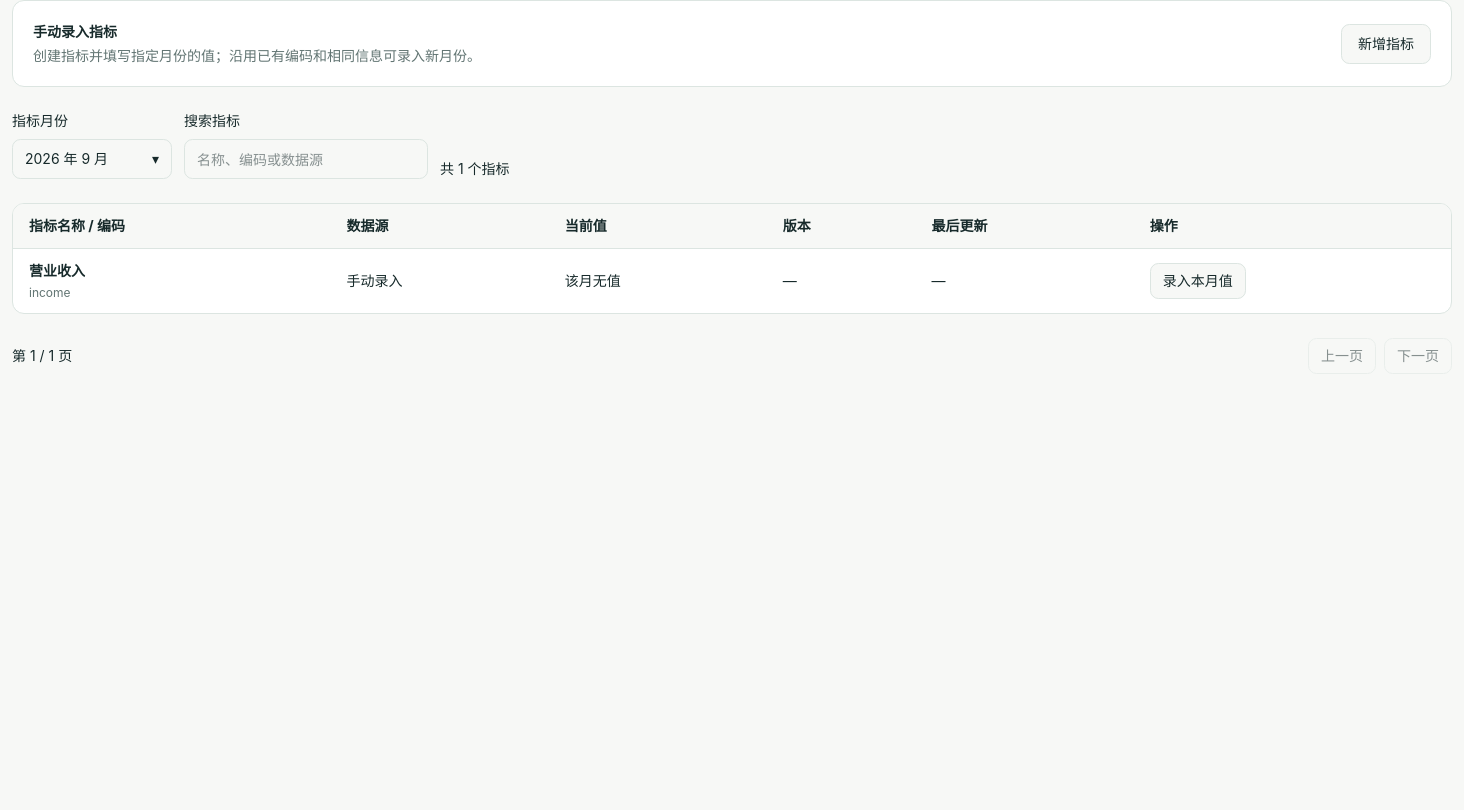
Test: metric manager month loading › records an empty month's value for an existing manual metric
This screenshot has width=1464, height=810.
Click the button "录入本月值" at [1198, 281], box [1150, 263, 1246, 299]
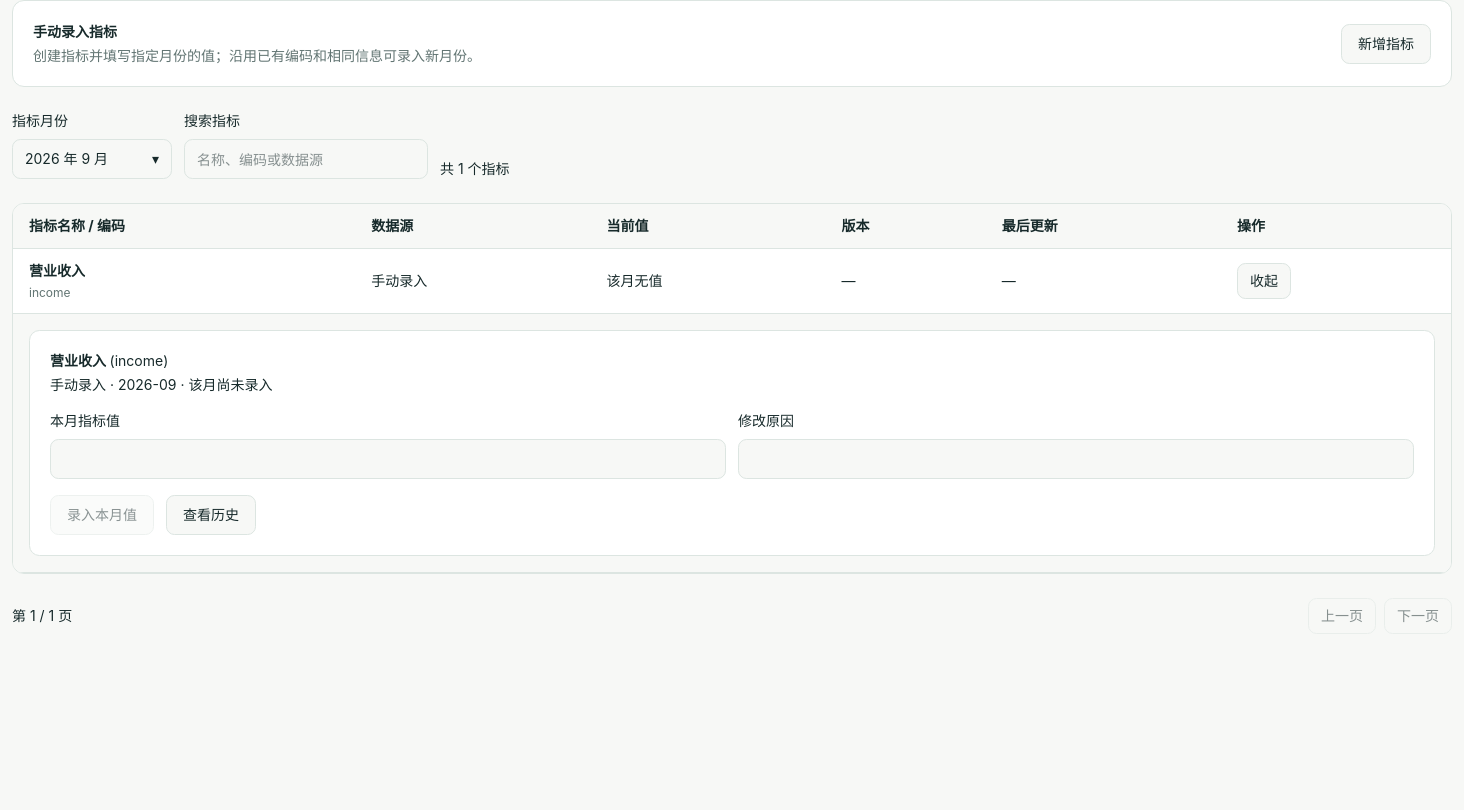
Type "120" into the field labelled "本月指标值" at [388, 459], box [50, 439, 726, 479]
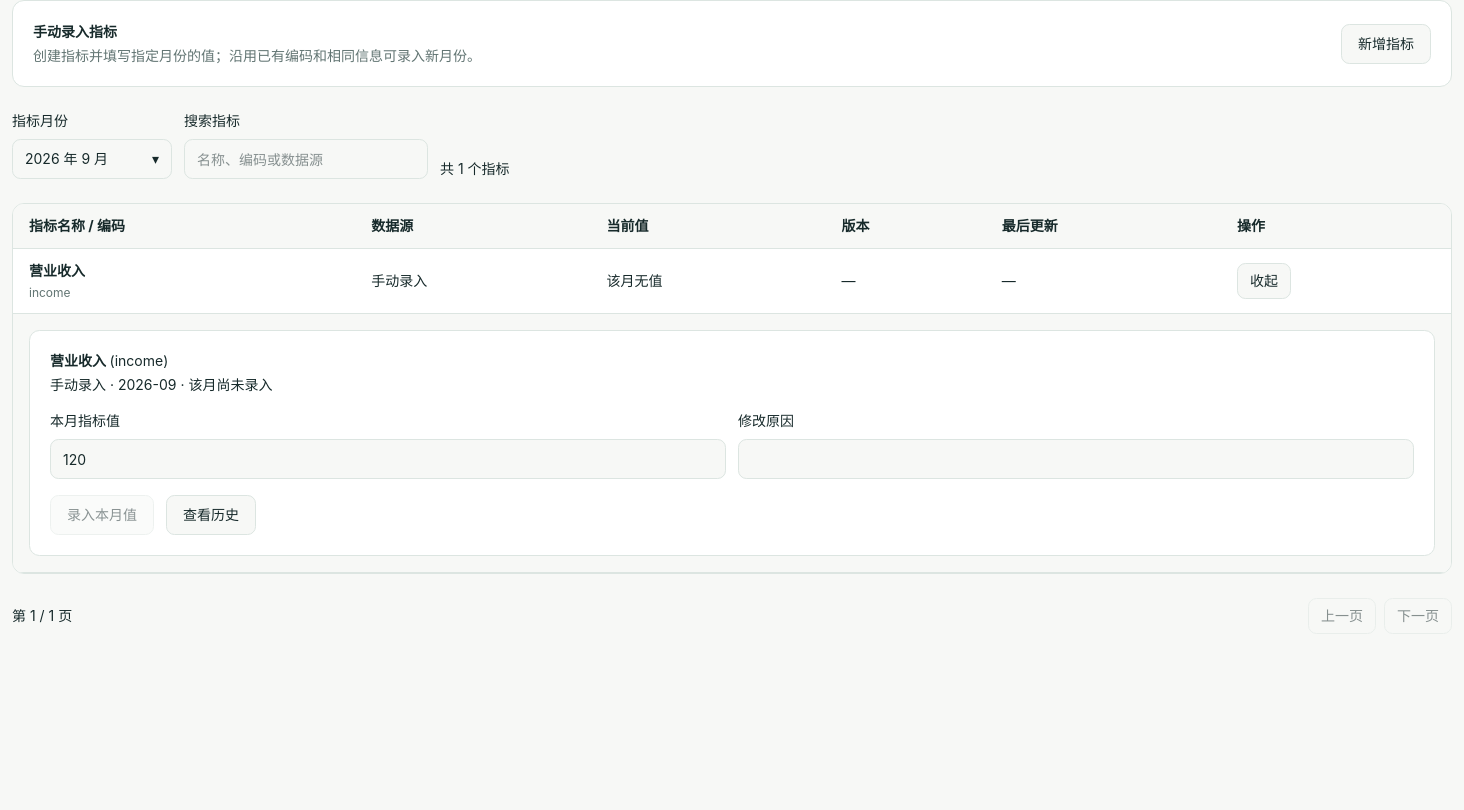
Type "本月补录" into the field labelled "修改原因" at [1076, 459], box [738, 439, 1414, 479]
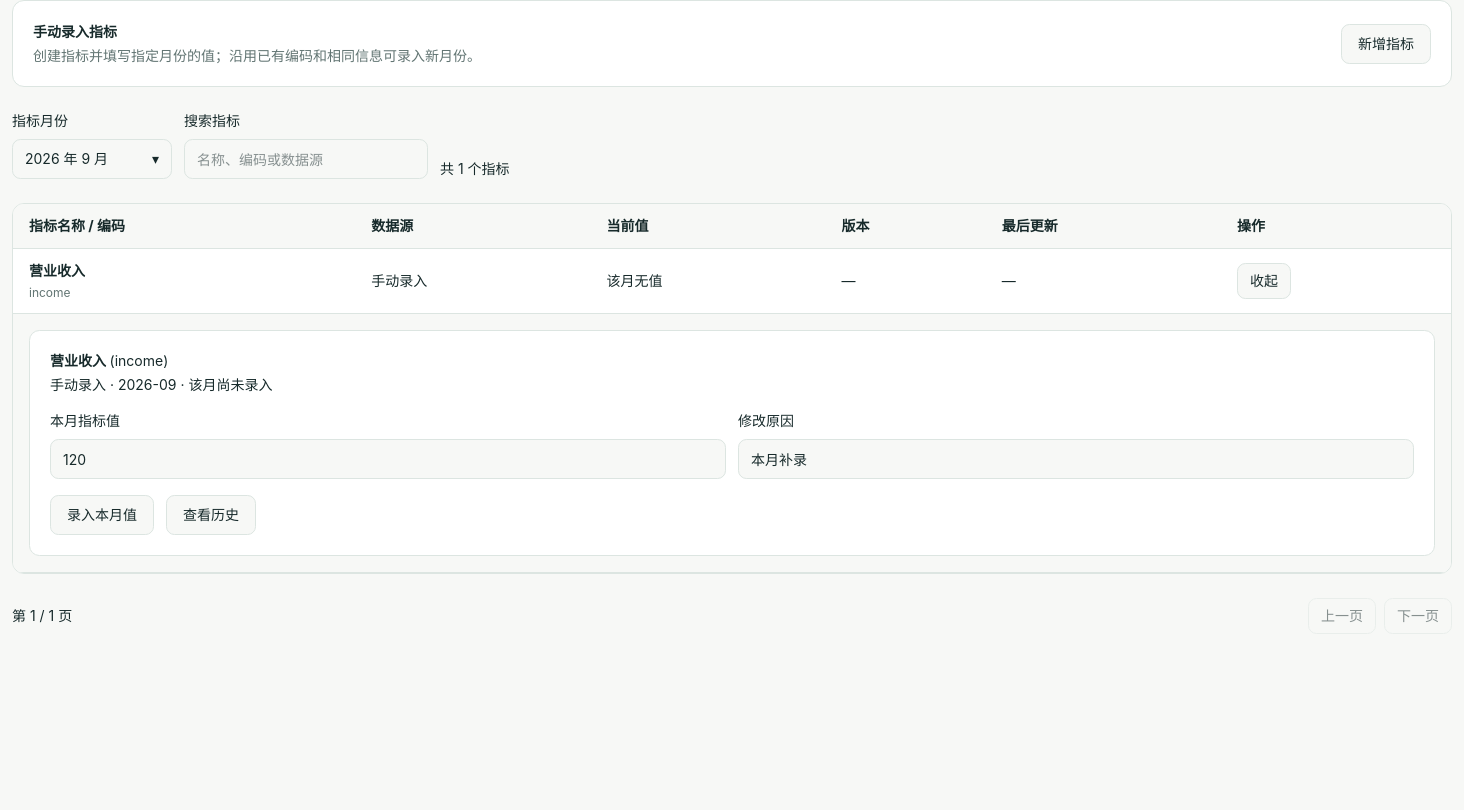
Click the button "录入本月值" at [102, 515], box [50, 495, 154, 535]
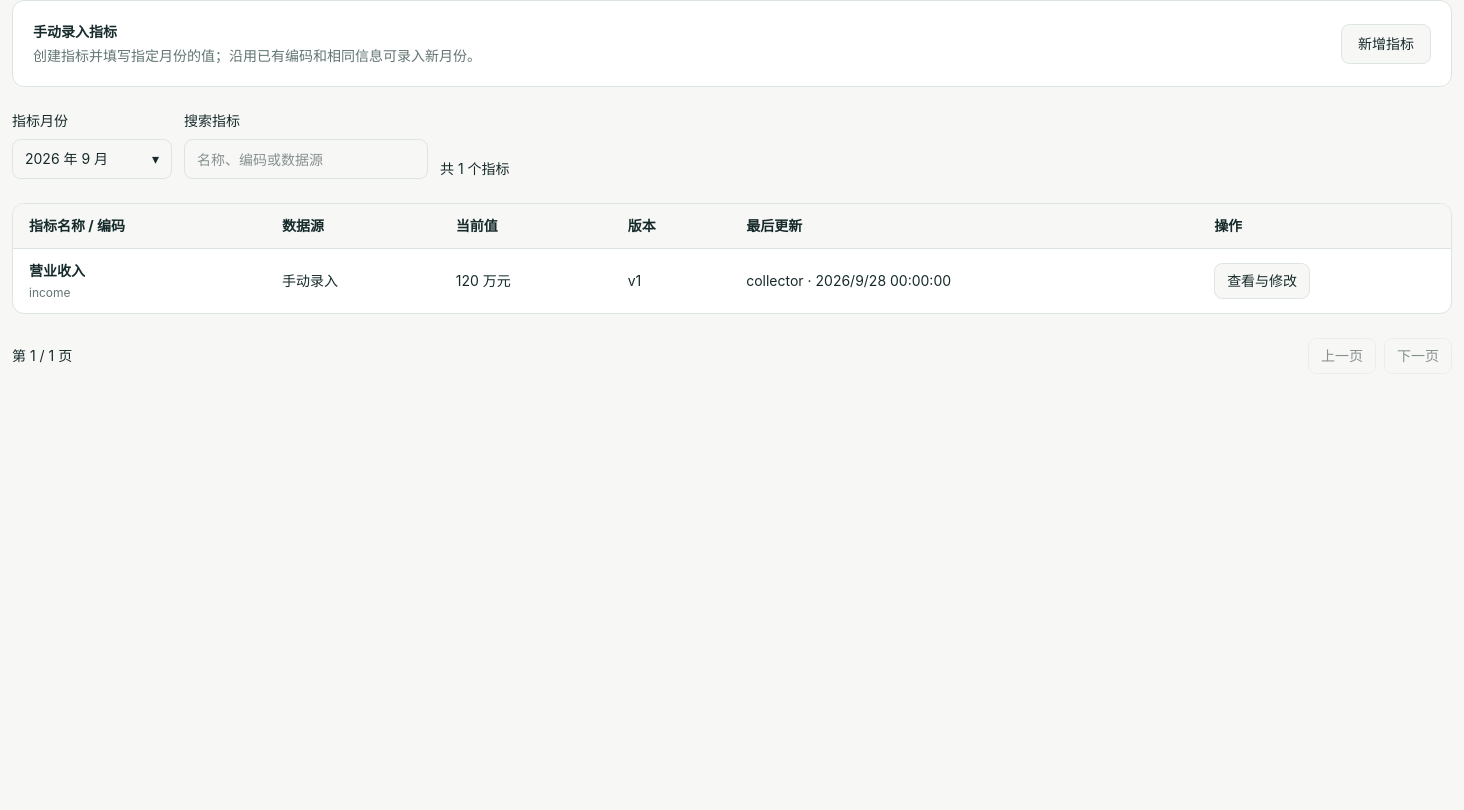
Expected: the cell "120 万元" is shown, [440, 248, 612, 313]
